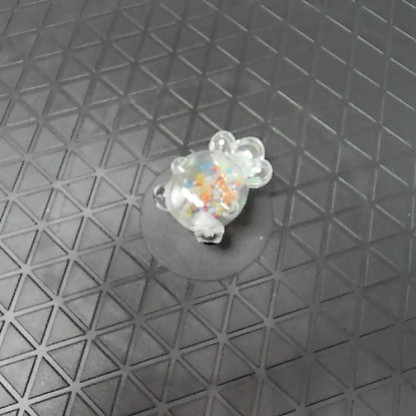whitefish: (154, 129, 276, 250)
